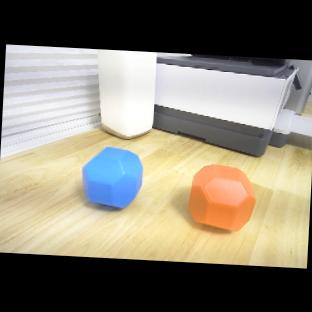V5_BLUE: (79, 144, 145, 213), (82, 146, 142, 208)
V5_RED: (186, 162, 257, 233), (188, 164, 256, 231)
